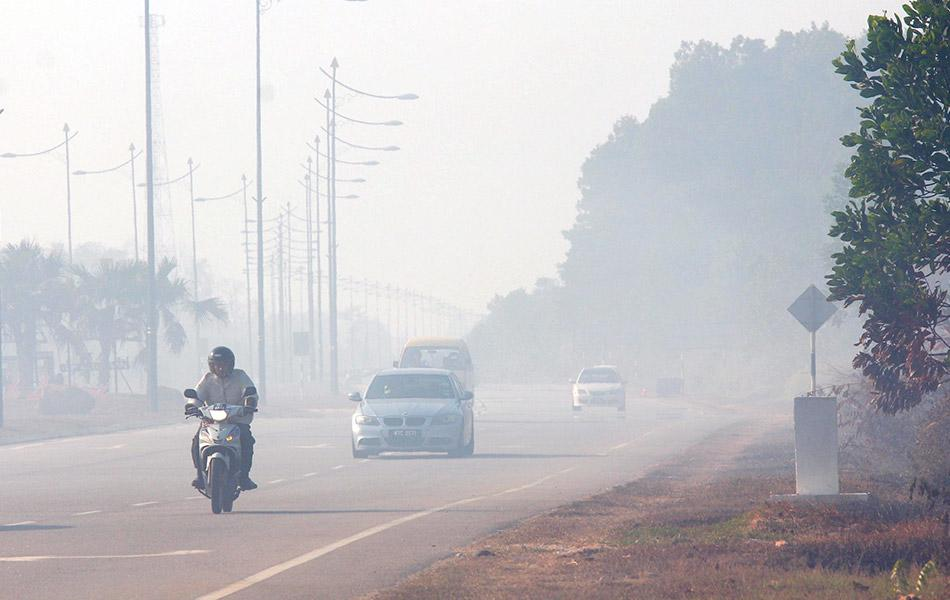backpack: (193, 346, 253, 452), (212, 362, 253, 436), (191, 356, 238, 415), (202, 359, 258, 408), (187, 384, 253, 415), (193, 369, 253, 397), (229, 359, 258, 415), (239, 373, 257, 411)
bench: (570, 364, 624, 410)
bicycle: (184, 347, 254, 496)
boat: (571, 364, 624, 410), (654, 376, 683, 396)
bus: (399, 336, 475, 397), (570, 363, 625, 413), (654, 377, 683, 397)
car: (381, 353, 606, 449), (346, 366, 475, 457), (460, 366, 624, 431), (188, 343, 259, 489), (372, 347, 476, 432), (347, 336, 452, 405), (343, 361, 411, 447), (355, 365, 456, 415), (528, 363, 625, 415), (396, 336, 474, 398), (346, 361, 428, 403), (385, 356, 458, 395), (570, 364, 624, 410), (14, 376, 86, 410), (397, 335, 464, 371), (345, 369, 381, 432), (37, 383, 96, 415), (344, 364, 388, 405), (452, 378, 475, 455), (633, 375, 685, 400), (345, 372, 374, 402), (6, 382, 41, 403), (637, 379, 670, 397), (654, 376, 683, 396), (343, 380, 365, 402), (635, 389, 667, 404), (345, 387, 365, 409), (634, 384, 658, 398)
chair: (570, 364, 624, 410)
handbag: (202, 359, 258, 408), (241, 380, 257, 411)
kite: (786, 284, 838, 330), (838, 293, 863, 310)
motorcycle: (183, 342, 258, 483), (184, 390, 253, 515), (184, 381, 244, 464)
person: (347, 368, 472, 456), (184, 342, 259, 487), (182, 390, 251, 516), (191, 349, 255, 424), (399, 336, 475, 397), (220, 350, 260, 437), (189, 345, 245, 393), (570, 363, 623, 412), (452, 378, 475, 455), (237, 369, 257, 410), (182, 388, 205, 419)
traffic light: (786, 284, 838, 329)
truck: (347, 368, 471, 457), (372, 347, 476, 432), (528, 363, 625, 415), (399, 336, 475, 397), (396, 338, 467, 373), (570, 364, 624, 410), (36, 384, 94, 416), (638, 375, 683, 401), (654, 376, 683, 397)
umbrella: (36, 383, 95, 416)
